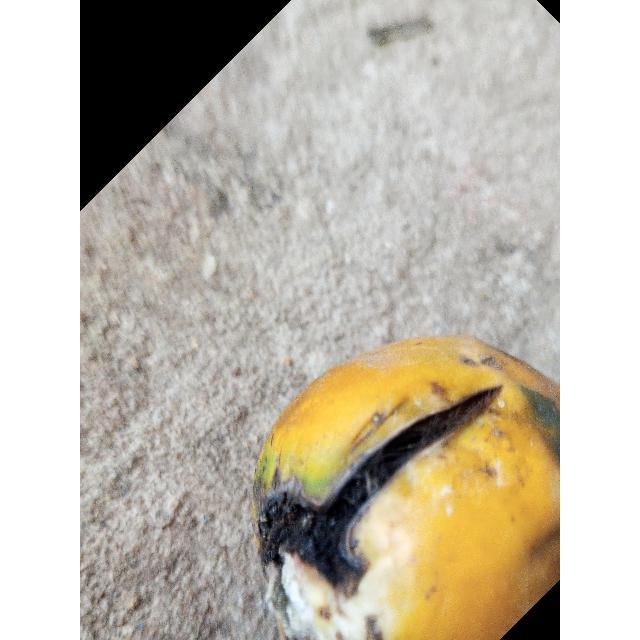damaged: (253, 336, 560, 640)
